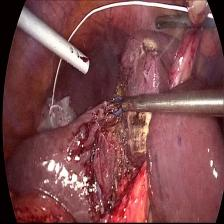Bipolar: (102, 93, 128, 119)
Grasper: (153, 13, 217, 33)
Irrigator: (61, 36, 94, 79)
Specimen Bag: (35, 95, 80, 133)
